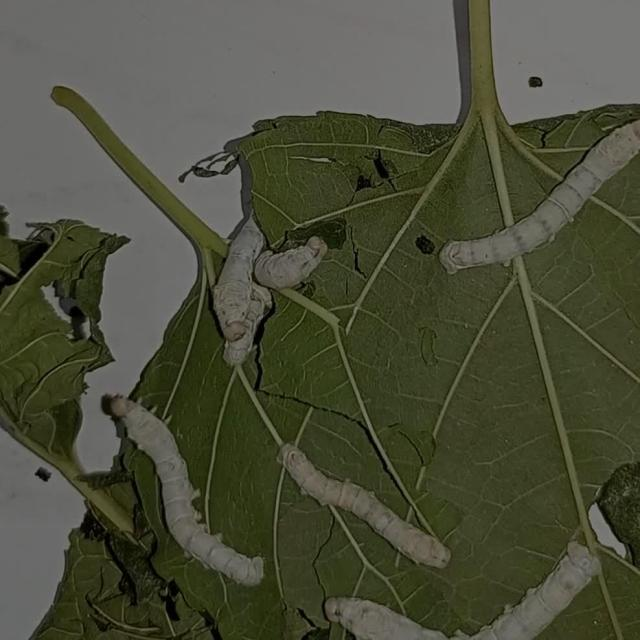Healthy: (97, 378, 270, 601), (424, 113, 638, 280), (279, 425, 456, 569)
